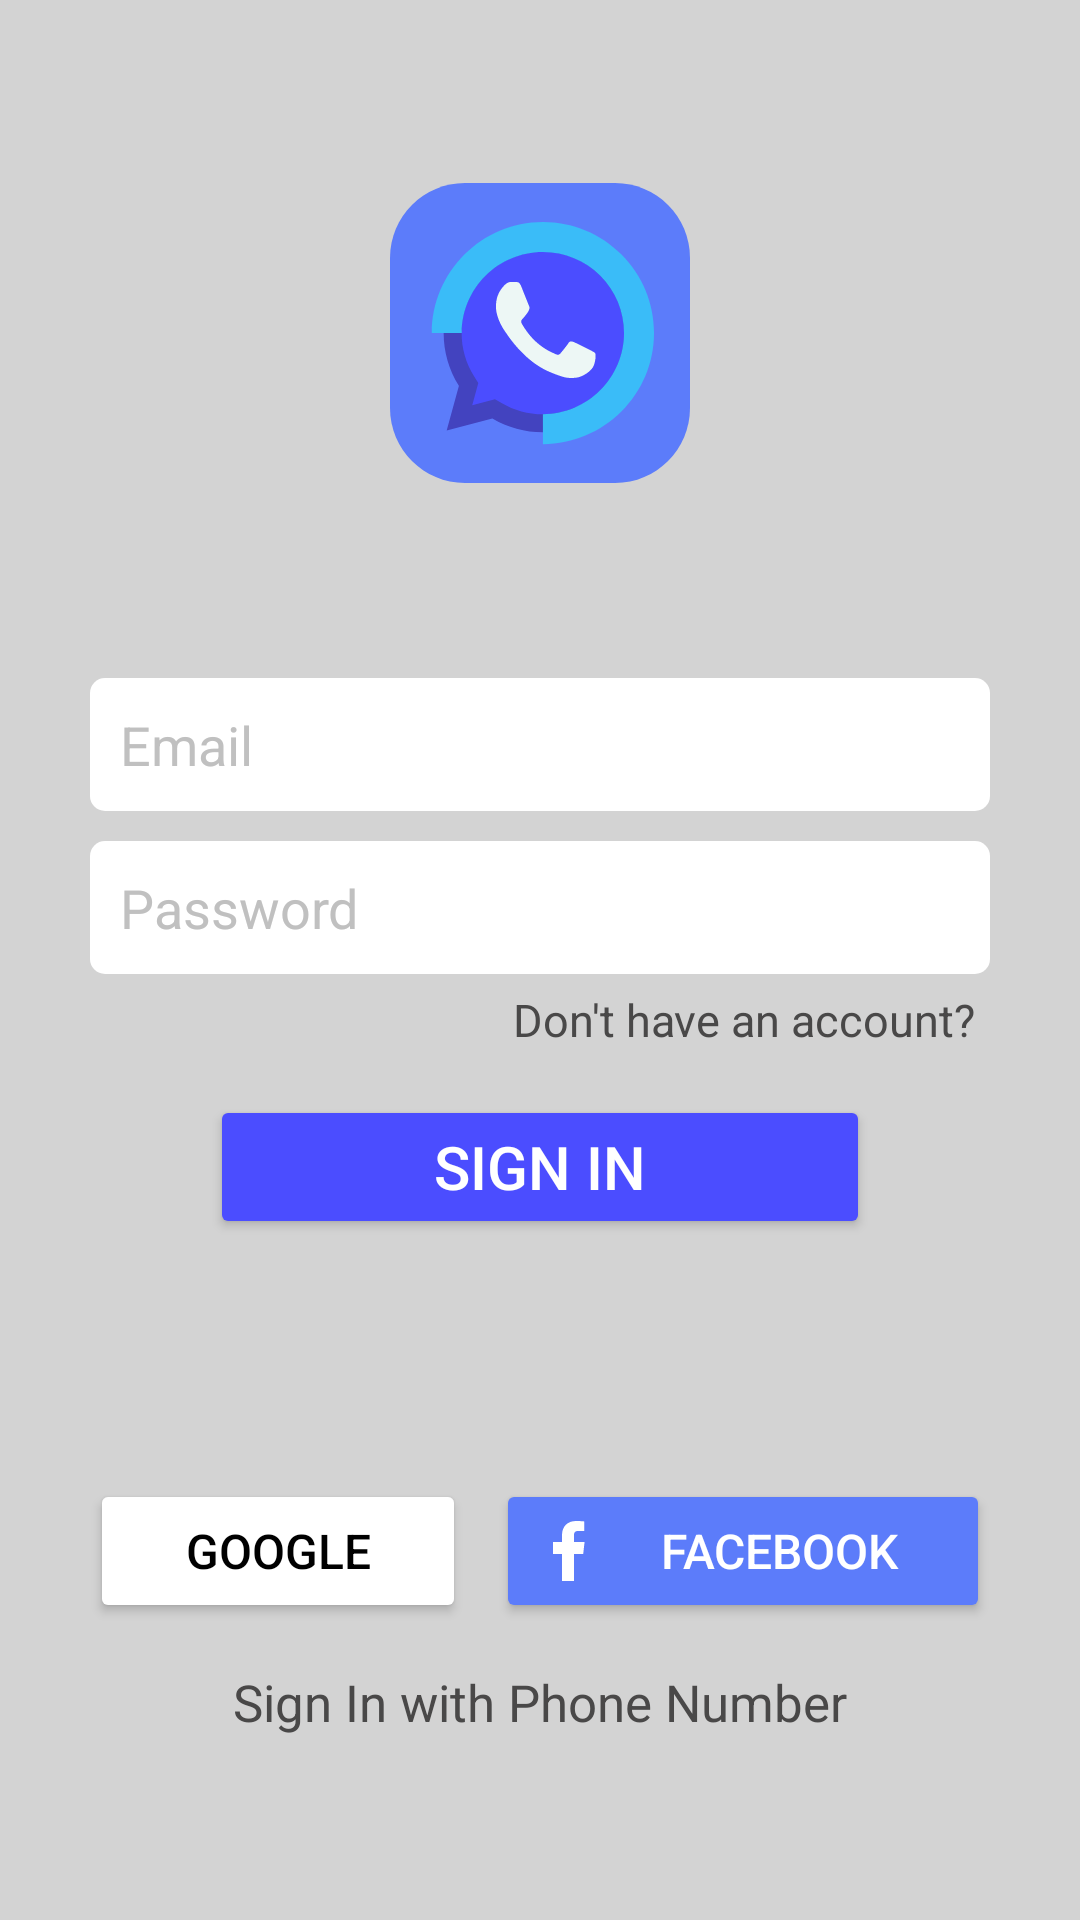

Named icons in this screenshot (1080 × 1920) and their bounding boxes, (x1, y1, x2, y2):
chatmingle: (390, 183, 690, 483)
